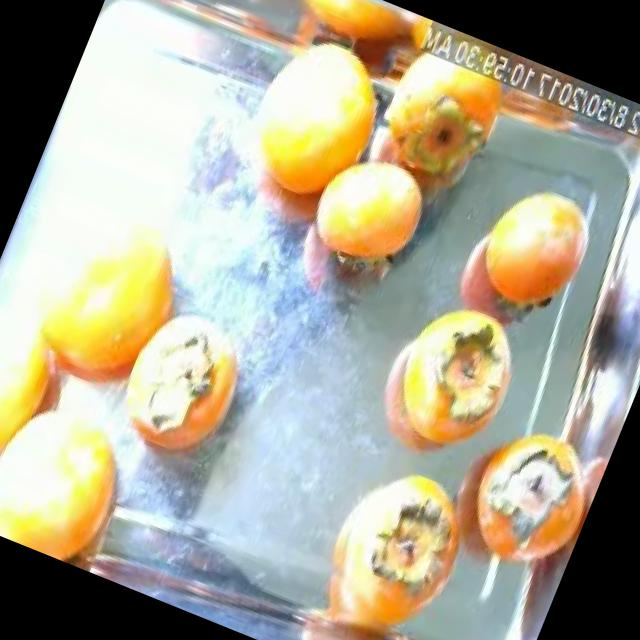Fruit: (342, 274, 546, 494), (422, 146, 618, 370), (288, 134, 452, 298)
